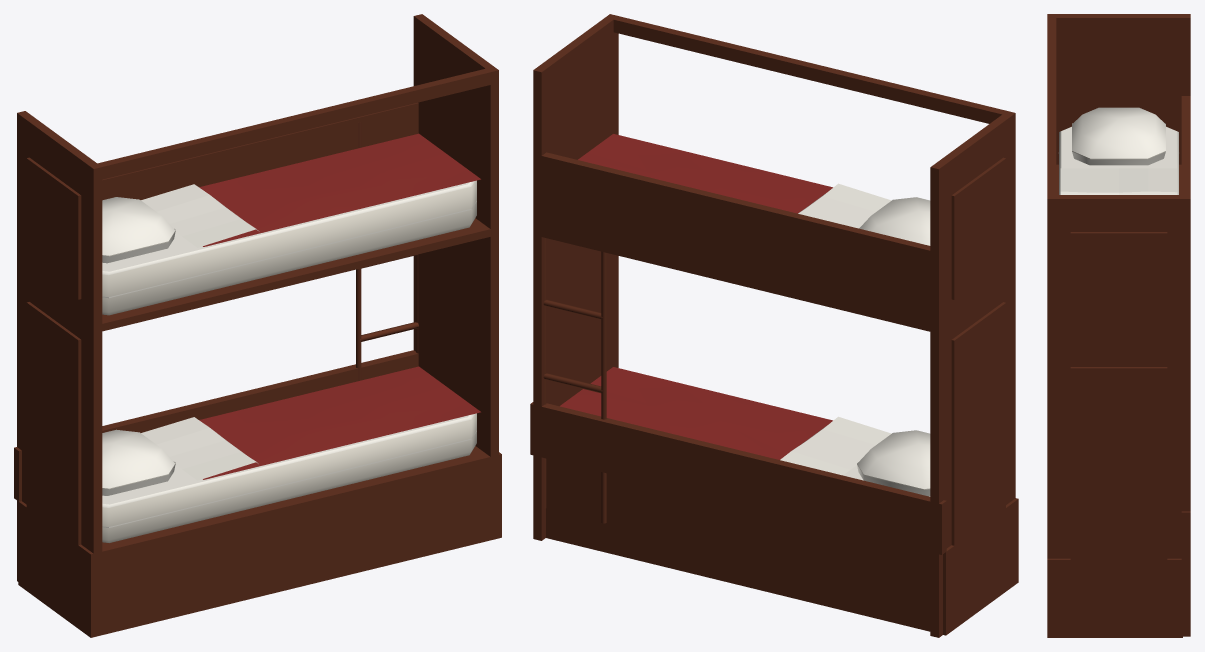
File: parametric-sized-berth-double-l170w55-2nd.glb
3 views of the same model, side by side, from view 1: azimuth 30°, elevation 25°; view 2: azimuth 150°, elevation 25°; view 3: azimuth 270°, elevation 25° (orthographic). The views are drawn at different scales.
Visible parts, largest first — view 1: parametric-sized-berth-double-l170w55-2nd; view 2: parametric-sized-berth-double-l170w55-2nd; view 3: parametric-sized-berth-double-l170w55-2nd.
Part boxes in pixels (x1,y1,x2,y2): parametric-sized-berth-double-l170w55-2nd: (14,14,501,637); parametric-sized-berth-double-l170w55-2nd: (530,14,1018,637); parametric-sized-berth-double-l170w55-2nd: (1047,14,1190,637).
Size of the model in its own units: 1.7 by 1.85 by 0.55.
